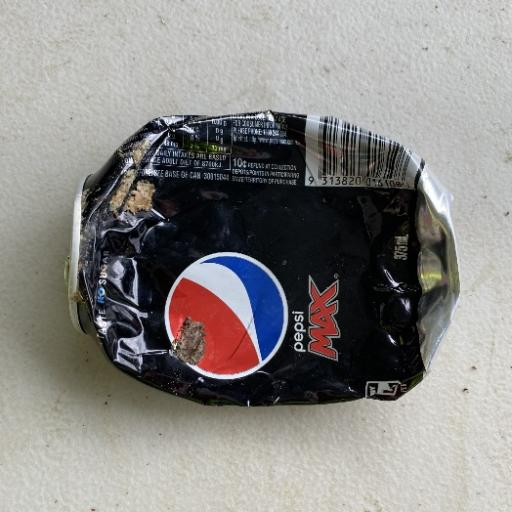Metal: (64, 108, 461, 408)
